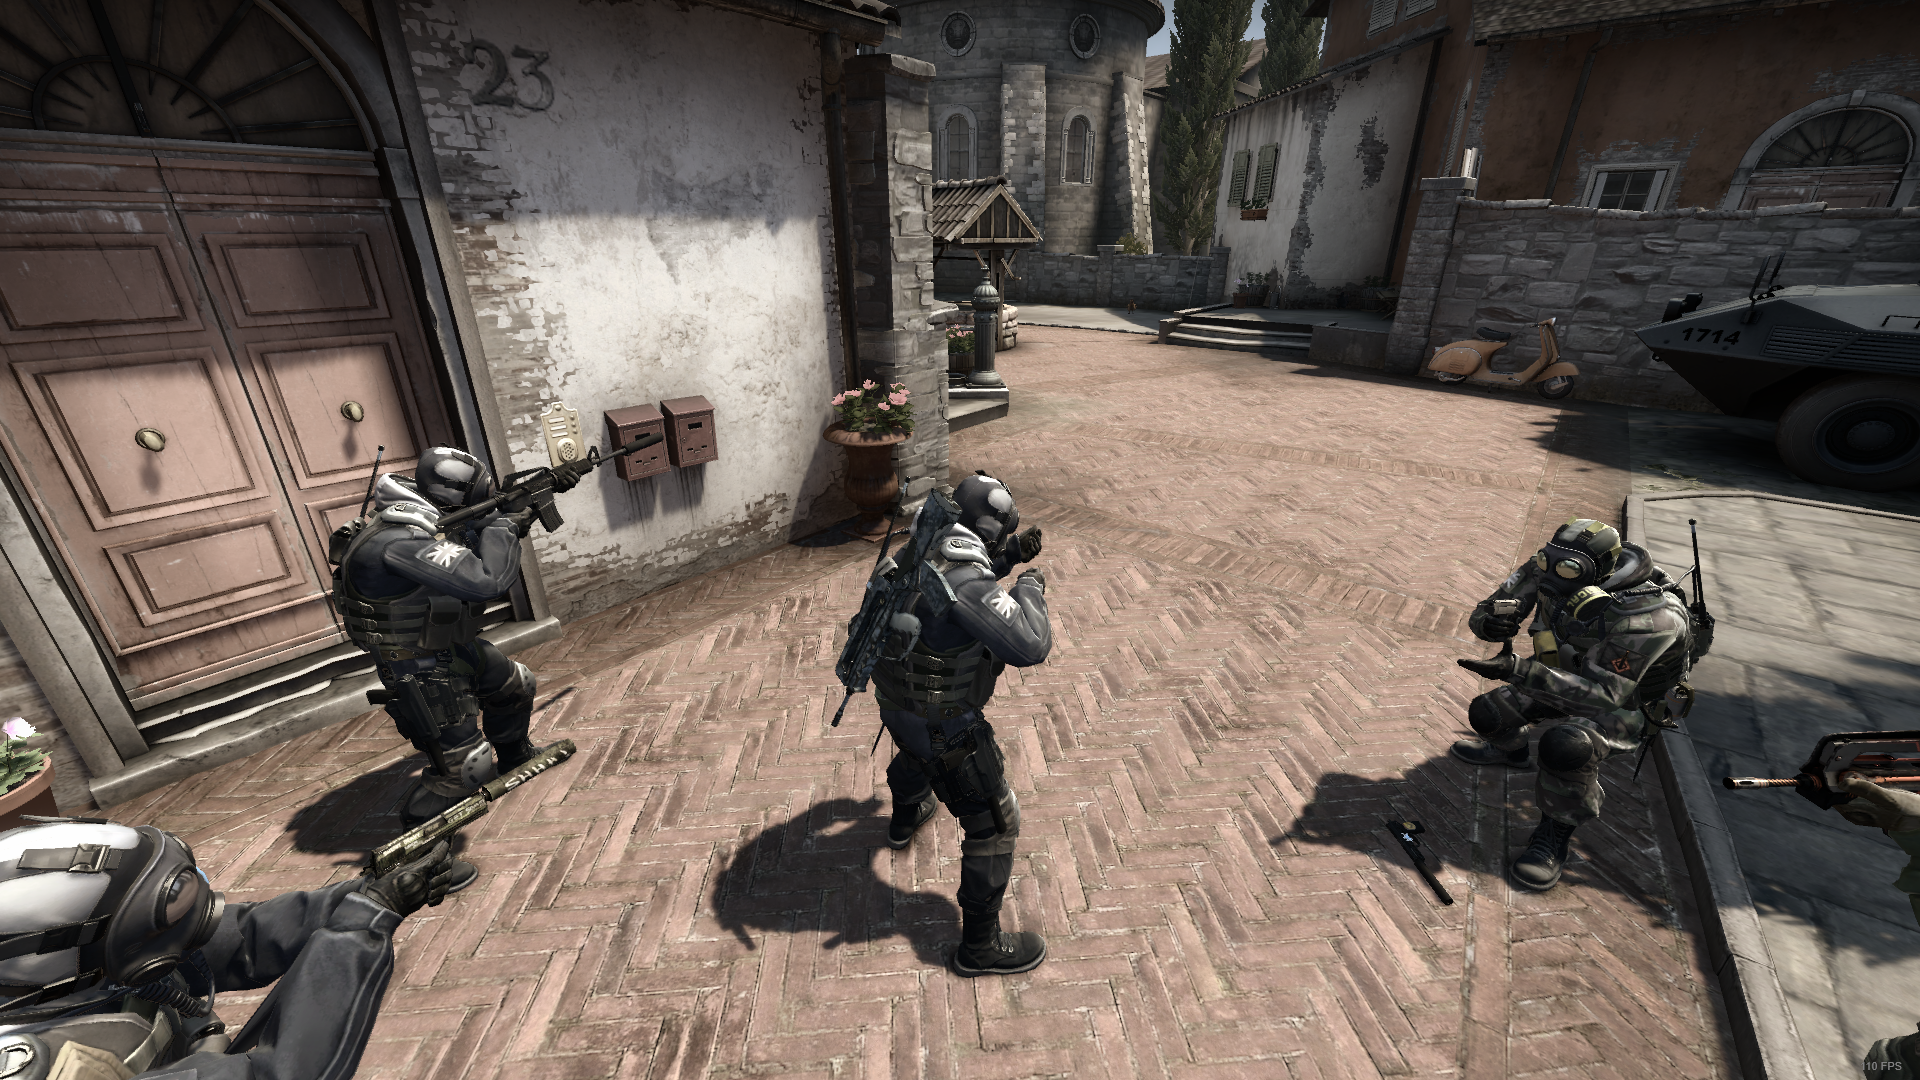ct: (320, 440, 585, 894), (849, 467, 1062, 973), (1452, 512, 1716, 901)
